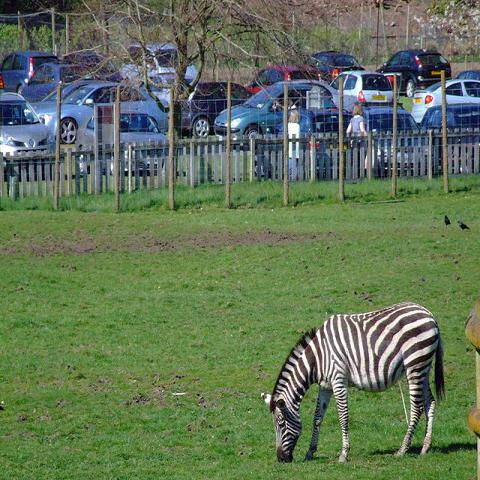car: (59, 39, 480, 102), (214, 78, 358, 143), (29, 79, 173, 144), (363, 107, 434, 177), (122, 43, 200, 102), (174, 80, 250, 139), (0, 93, 59, 156), (21, 62, 93, 106), (411, 79, 479, 124), (245, 63, 338, 94), (1, 50, 63, 94), (332, 70, 404, 107), (273, 107, 354, 136), (418, 104, 480, 129)
